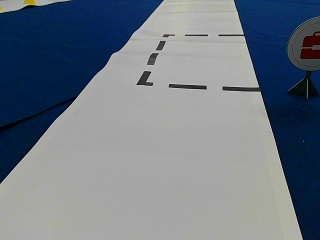company: (287, 16, 320, 68)
